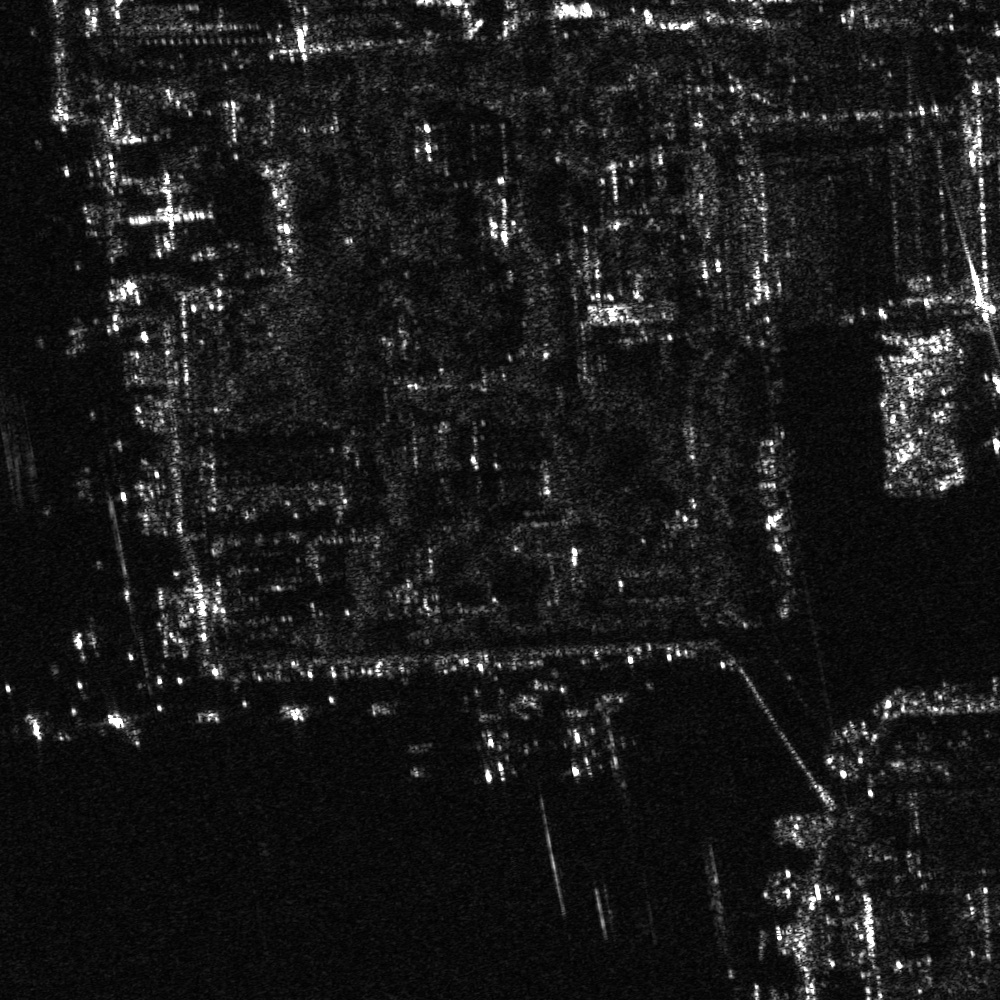ARJ21: (458, 709, 538, 786)
Boeing737: (547, 694, 606, 784)
